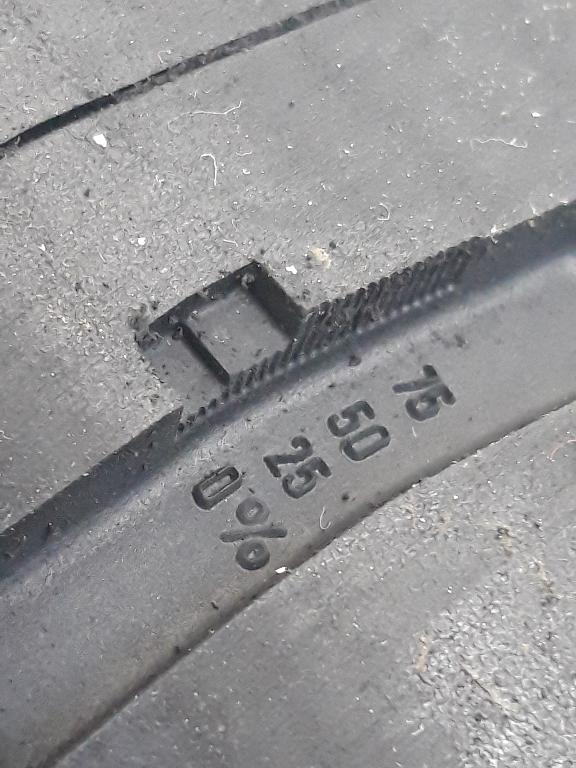temoin:50: (117, 229, 378, 464)
